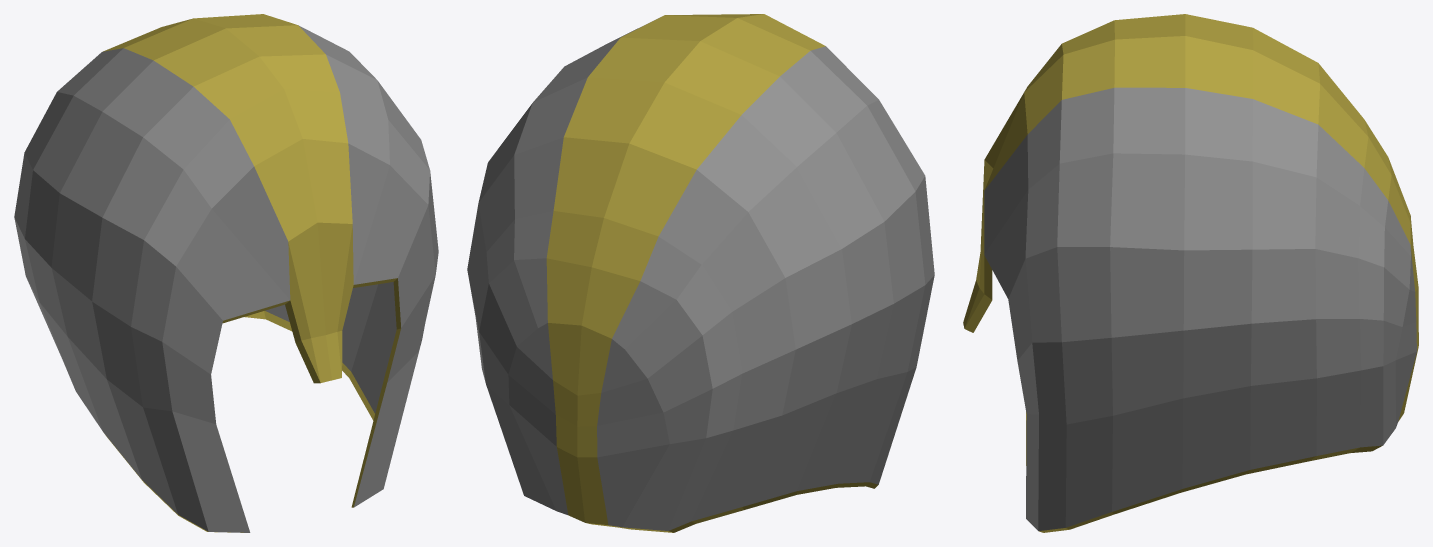
Rendered from Helm.glb.
3 renders of one model, left to right at view 1: azimuth 30°, elevation 25°; view 2: azimuth 150°, elevation 25°; view 3: azimuth 270°, elevation 25°, orthographic. The views are drawn at different scales.
Parts seen in each view (by area): view 1: helm; view 2: helm; view 3: helm.
Part boxes in pixels (x1,y1,x2,y2): helm: (14,14,438,532); helm: (467,14,934,532); helm: (963,14,1418,532).
Bounding box in the file's own units: 0.259 × 0.3097 × 0.279.
1 material, 1 textured.
